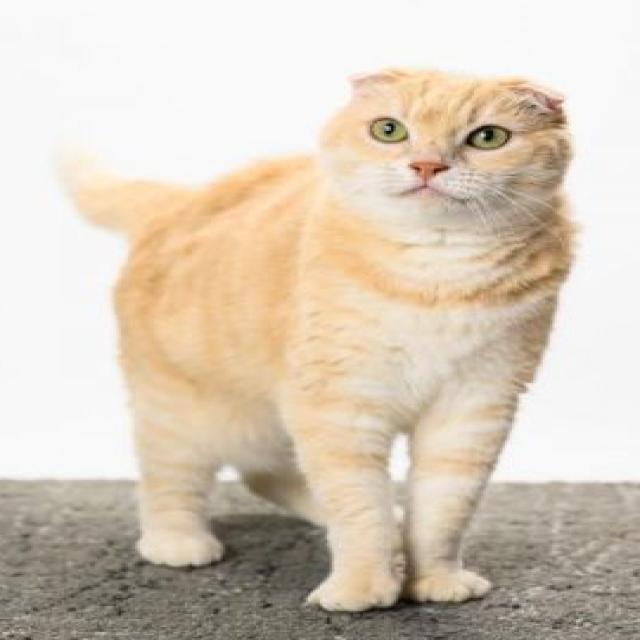Scottish Fold: (46, 65, 588, 621)
